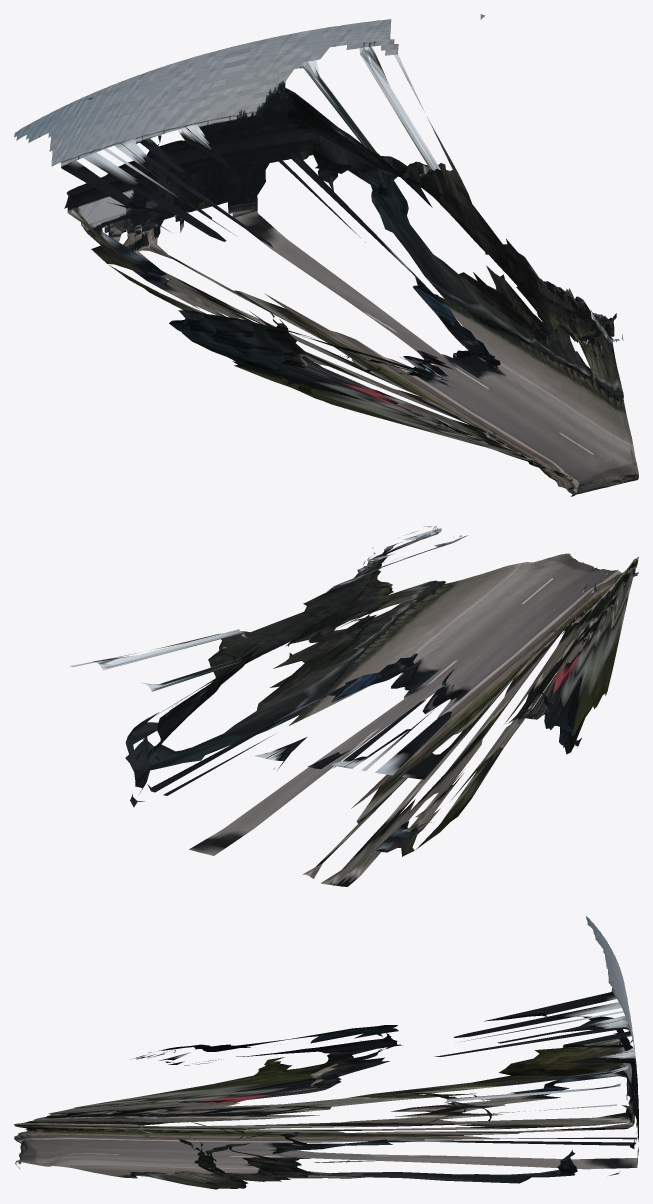
The picture shows the model from 3 angles, top to bottom: view 1: azimuth 30°, elevation 25°; view 2: azimuth 150°, elevation 25°; view 3: azimuth 270°, elevation 25°; orthographic projection. The views are drawn at different scales.
Parts seen in each view (by area): view 1: defaultobject; view 2: defaultobject; view 3: defaultobject.
Part boxes in pixels (bbox=[...]): defaultobject: bbox=[14, 14, 638, 496]; defaultobject: bbox=[70, 526, 638, 886]; defaultobject: bbox=[14, 916, 638, 1189].
Bounding box in the file's own units: 32.4 × 12.34 × 44.64.
Materials: 1 (1 with a texture image).
